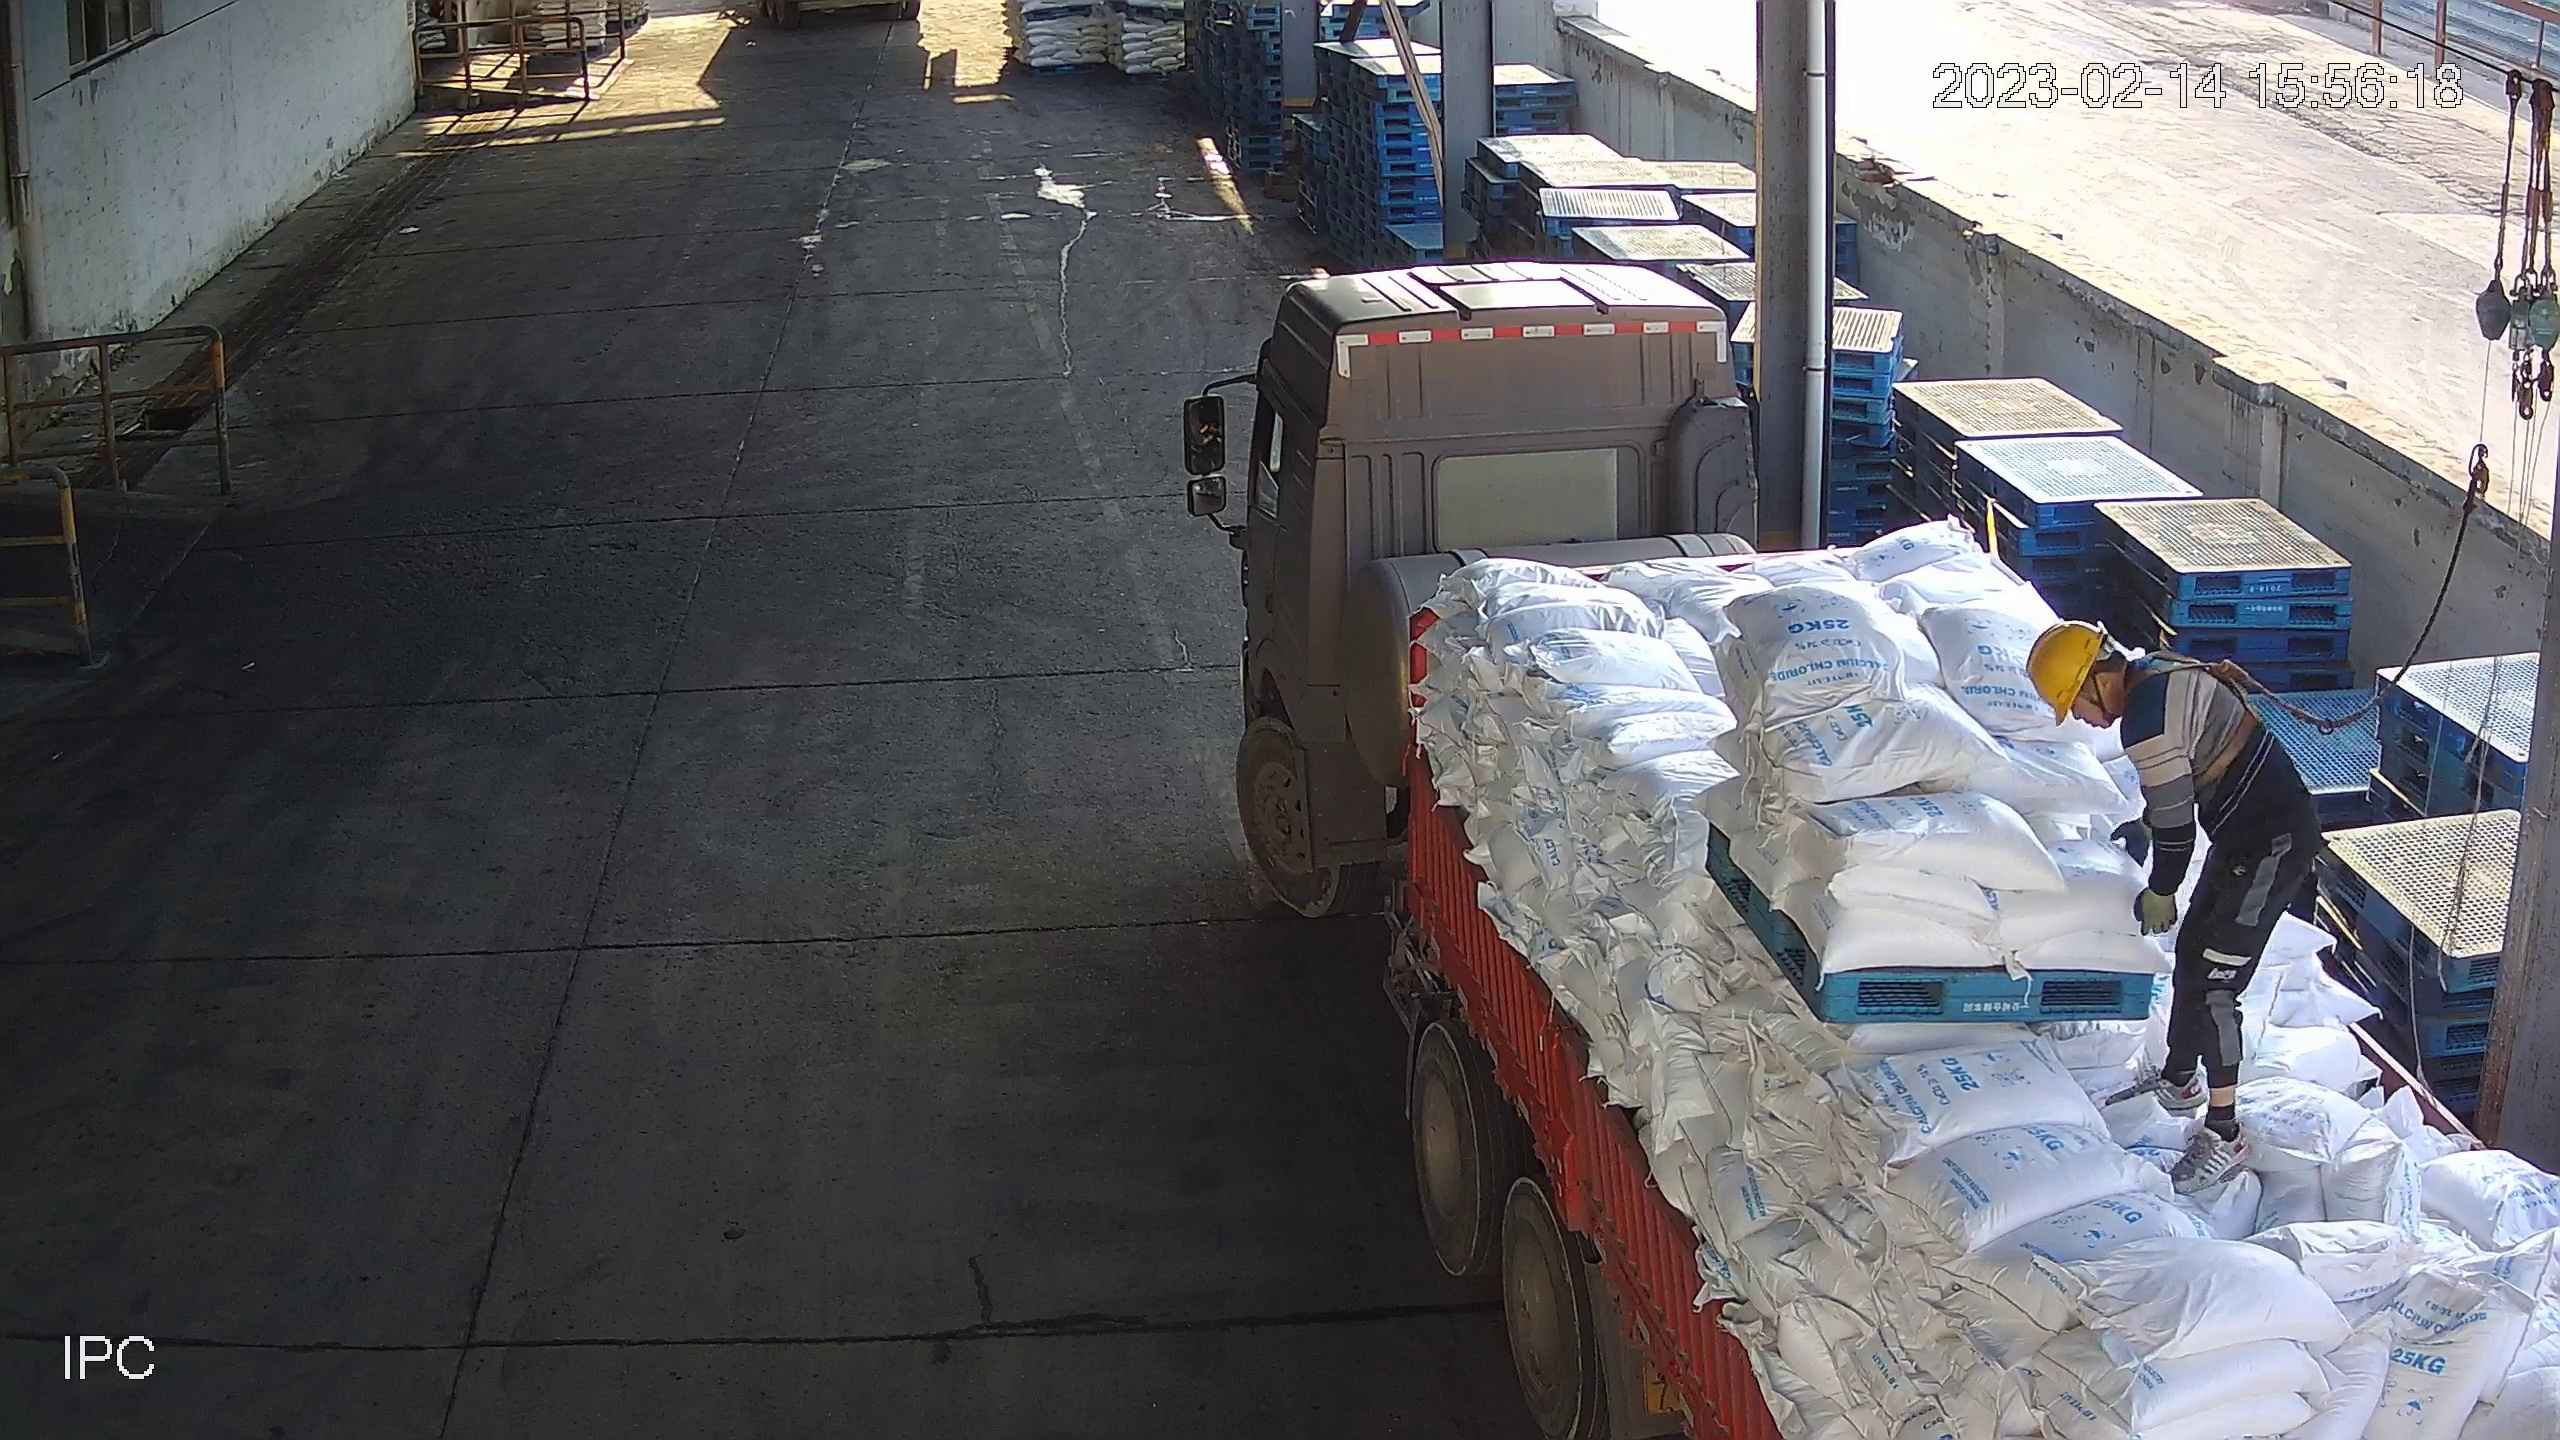belt: (2127, 651, 2276, 784)
head: (2022, 616, 2268, 759)
helmet: (2022, 618, 2106, 728)
people: (2022, 617, 2325, 1198)
truck: (1231, 254, 2560, 1440)
